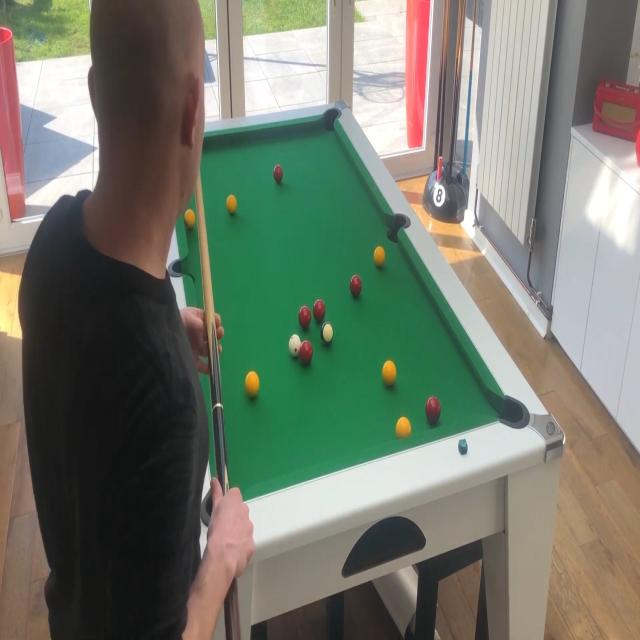Ball: (426, 396, 441, 424), (382, 360, 397, 388), (245, 372, 259, 398), (298, 305, 312, 329), (396, 416, 411, 438), (321, 322, 334, 346), (312, 299, 326, 321), (300, 340, 312, 365), (289, 334, 301, 357), (350, 275, 362, 298), (183, 209, 196, 230), (373, 246, 385, 267), (226, 195, 237, 214), (274, 165, 284, 183)
Billiard table: (140, 99, 566, 589)
